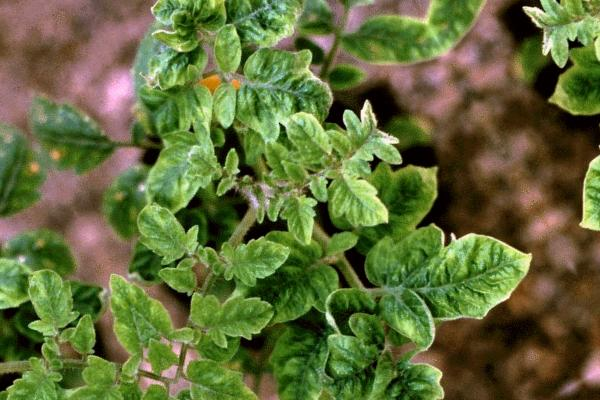Tomato leaf yellow virus: (353, 183, 557, 367), (207, 9, 351, 153), (245, 301, 376, 400), (174, 258, 288, 366), (123, 126, 222, 223), (196, 0, 330, 71), (309, 146, 404, 245), (122, 182, 213, 280), (266, 92, 351, 184)
